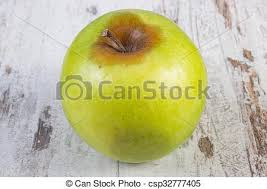damaged_apple: (62, 11, 207, 163)
